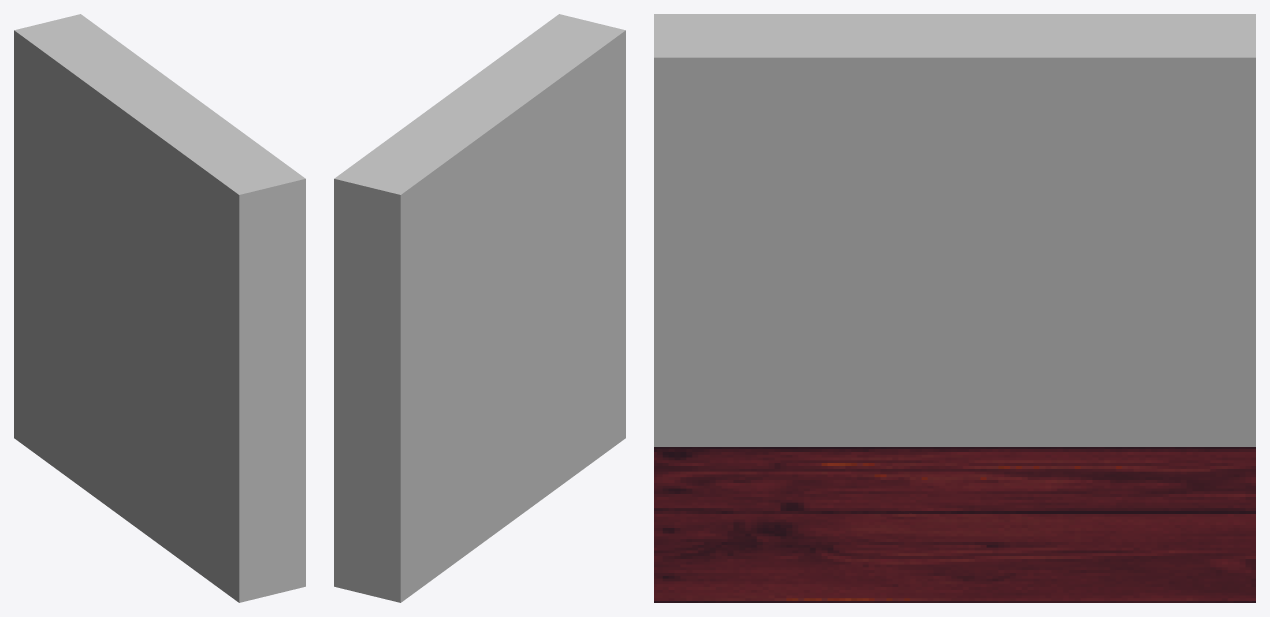
File: ClinicWallsv2.fbx
3 views of the same model, side by side, from view 1: azimuth 30°, elevation 25°; view 2: azimuth 150°, elevation 25°; view 3: azimuth 270°, elevation 25° (orthographic). The views are drawn at different scales.
Parts seen in each view (by area): view 1: Cube.010; view 2: Cube.010; view 3: Cube.010.
Part boxes in pixels (bbox=[...]): Cube.010: bbox=[14, 14, 305, 602]; Cube.010: bbox=[334, 14, 625, 602]; Cube.010: bbox=[654, 14, 1255, 602].
Size of the model in its own units: 68.42 by 400 by 400.
